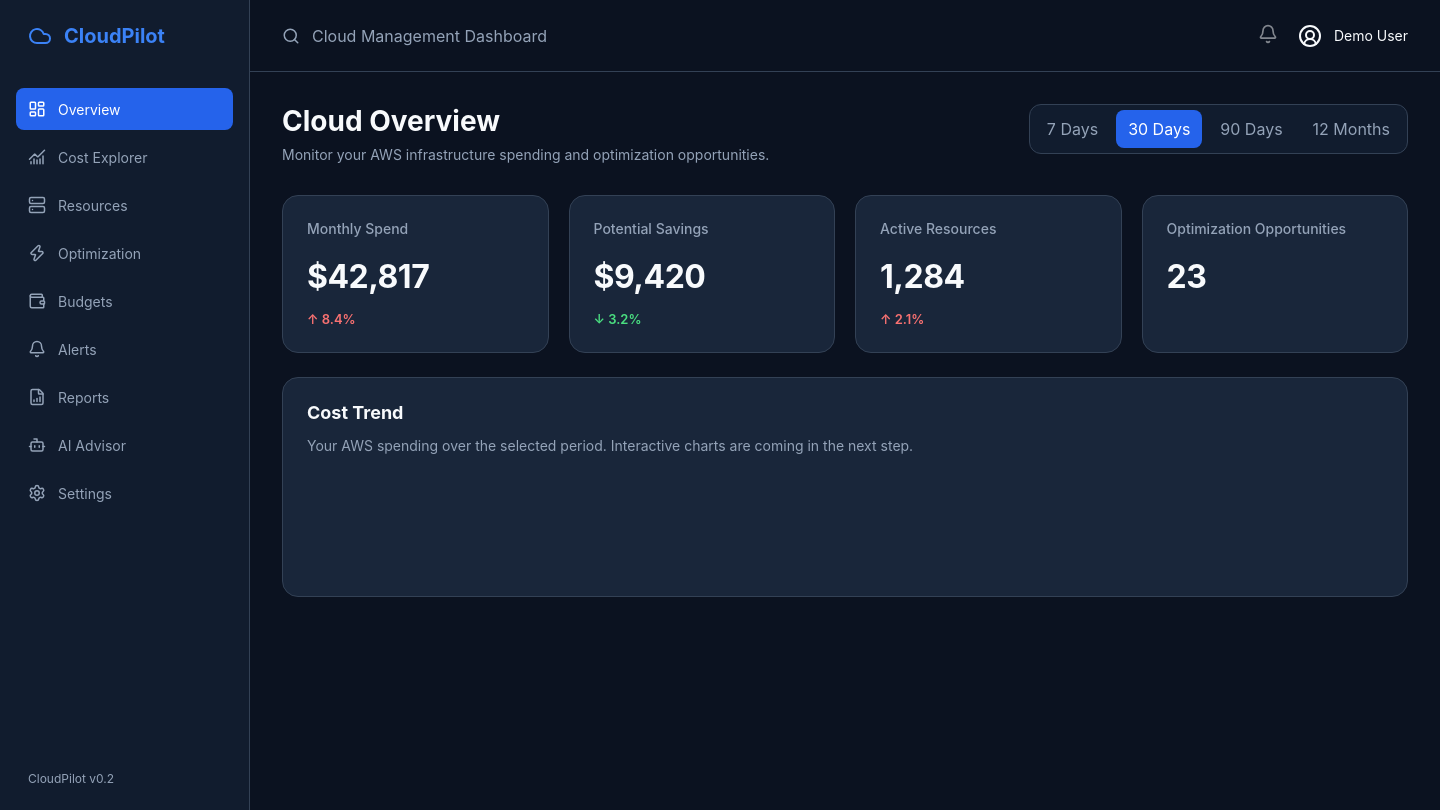
Test: CloudPilot routing › updates the dashboard period
The width and height of the screenshot is (1440, 810).
Click the button "7 Days" at (1072, 129), box top-left (1035, 110), bottom-right (1110, 148)
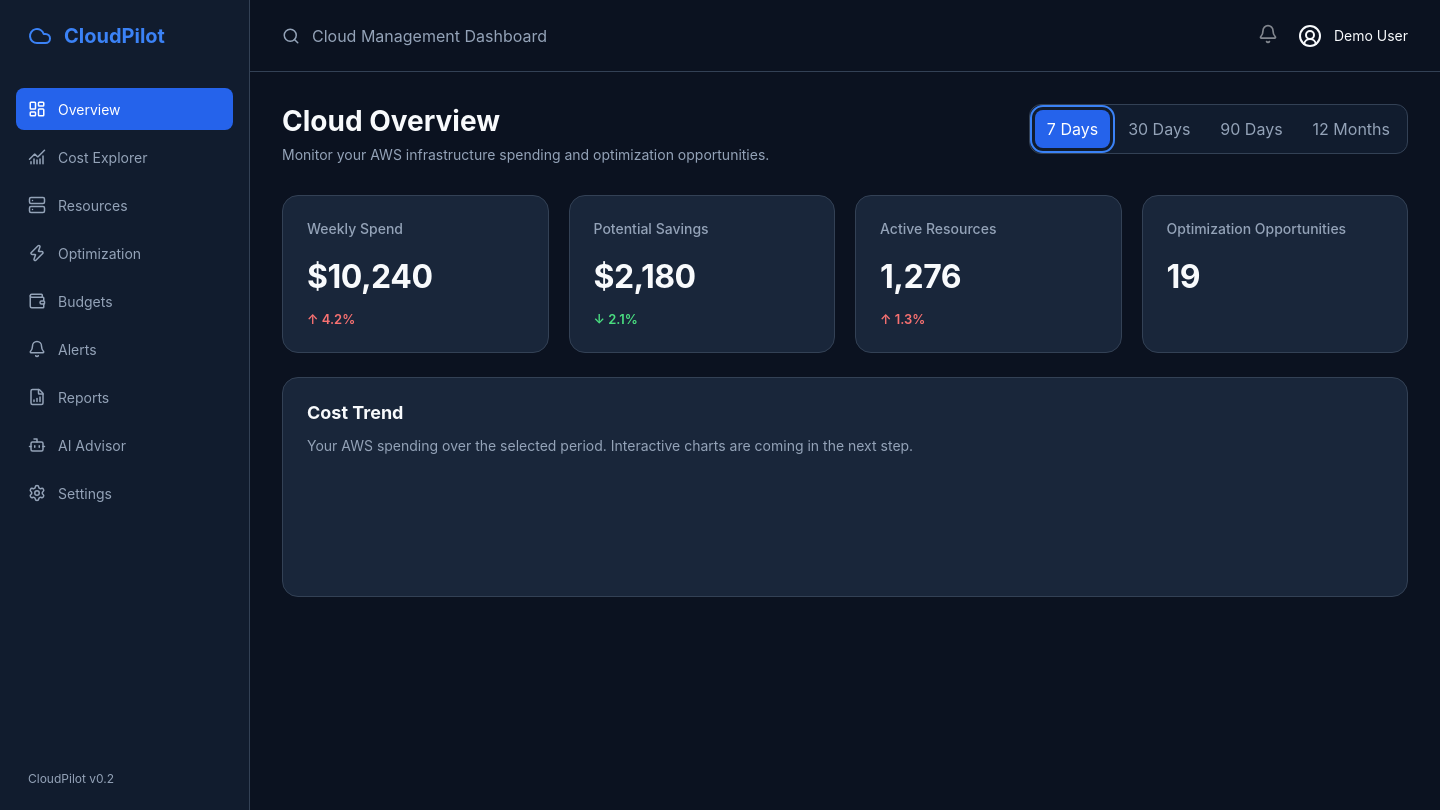
Expected: the text "$10,240" is shown, top-left (307, 257), bottom-right (432, 296)
